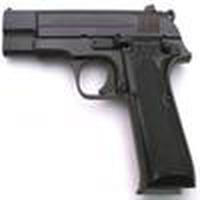gun: (3, 6, 195, 198)
